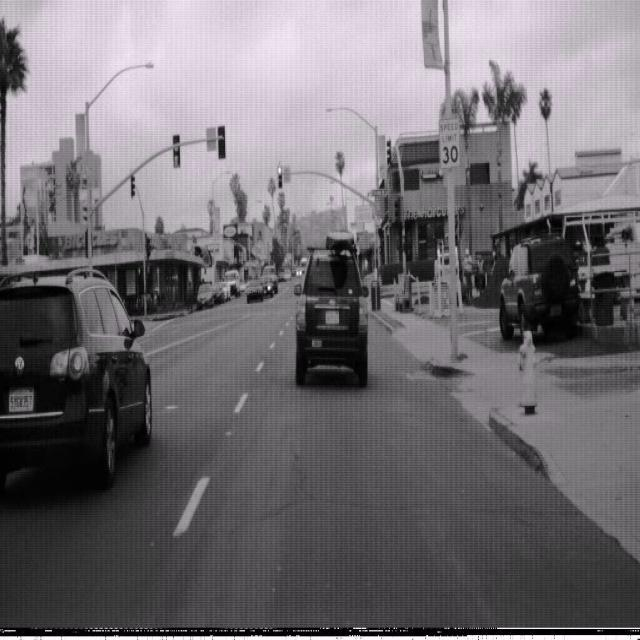speedLimit30: (438, 116, 461, 170)
